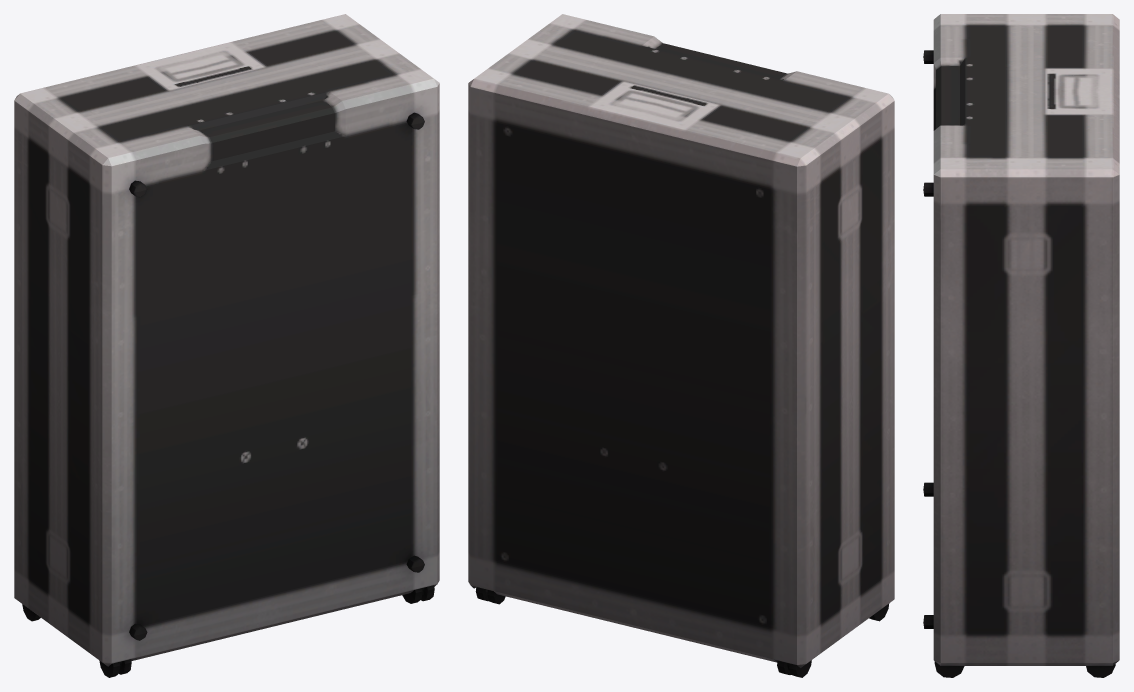
The model's file is SM_Briefcase.FBX.
3 renders of one model, left to right at view 1: azimuth 30°, elevation 25°; view 2: azimuth 150°, elevation 25°; view 3: azimuth 270°, elevation 25°, orthographic. The views are drawn at different scales.
Visible parts, largest first — view 1: SM_Briefcase; view 2: SM_Briefcase; view 3: SM_Briefcase.
Part boxes in pixels (bbox=[...]): SM_Briefcase: bbox=[14, 14, 439, 677]; SM_Briefcase: bbox=[468, 14, 894, 677]; SM_Briefcase: bbox=[923, 14, 1119, 677].
Size of the model in its own units: 47.68 by 24.61 by 70.59.
